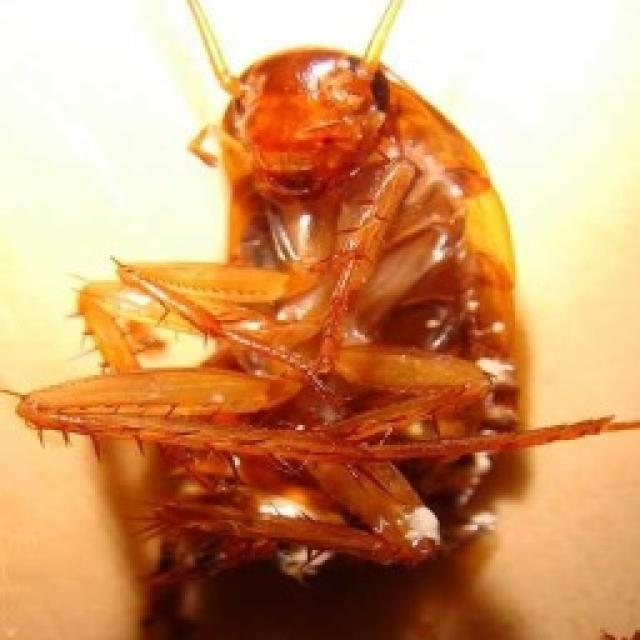cockroach: (12, 28, 630, 633)
